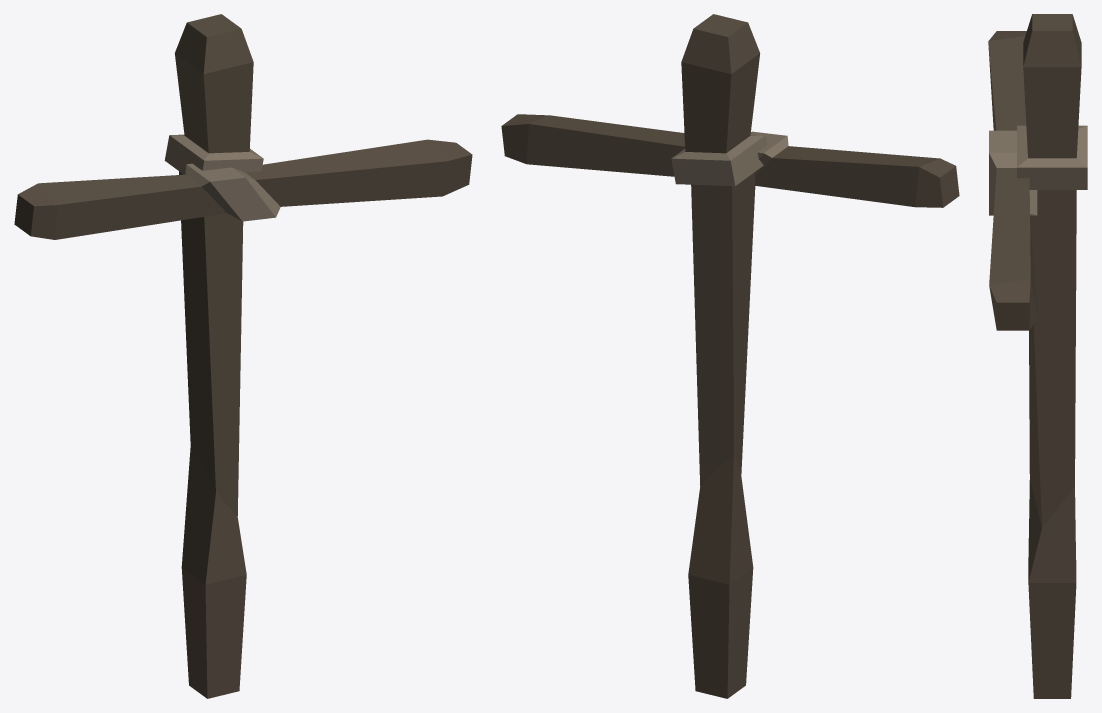
Rendered from SM_Prop_Grave_01.glb.
3 views of the same model, side by side, from view 1: azimuth 30°, elevation 25°; view 2: azimuth 150°, elevation 25°; view 3: azimuth 270°, elevation 25° (orthographic).
Parts seen in each view (by area): view 1: SM_Prop_Grave_01; view 2: SM_Prop_Grave_01; view 3: SM_Prop_Grave_01.
Boxes of the visible parts, x1,y1,x2,y2 form: SM_Prop_Grave_01: [14, 14, 472, 698]; SM_Prop_Grave_01: [501, 14, 959, 698]; SM_Prop_Grave_01: [988, 14, 1087, 698].
Bounding box in the file's own units: 0.00747 × 0.0107 × 0.00144.
